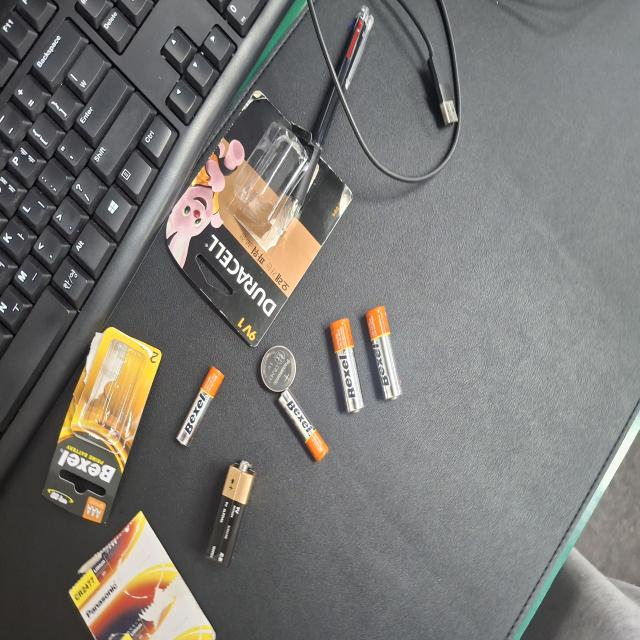9V: (348, 511, 424, 580)
AA: (229, 316, 302, 368), (238, 368, 310, 413)
AAA: (274, 553, 334, 620), (290, 413, 343, 477)
COIN: (259, 458, 295, 507)
